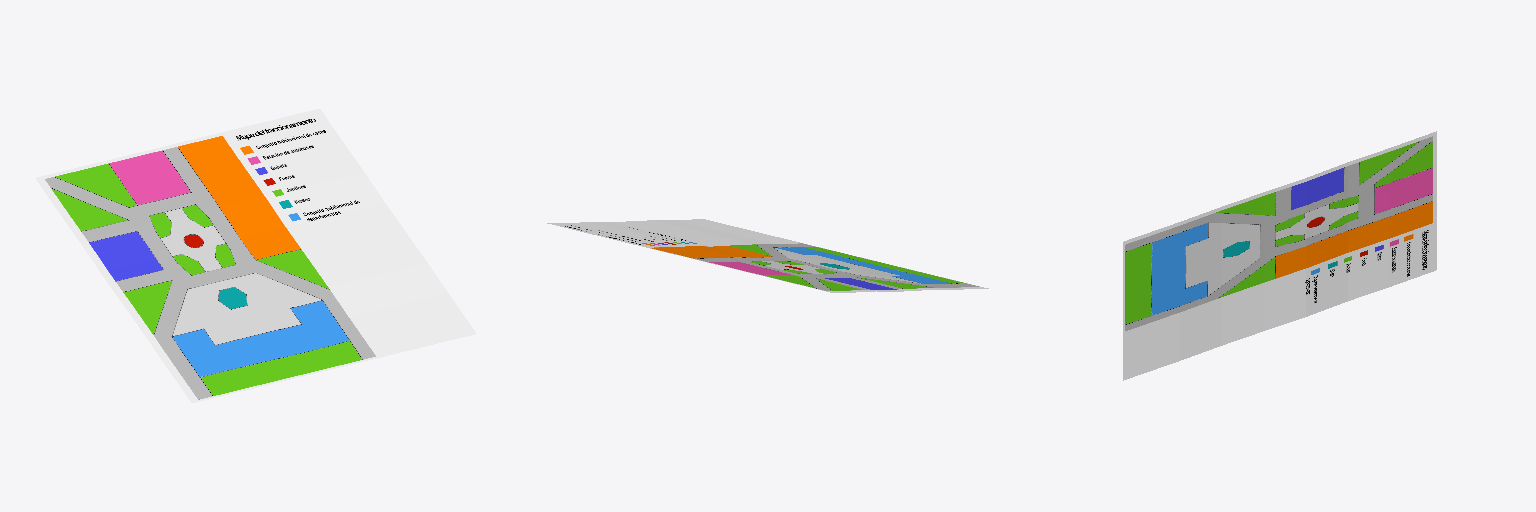
3 views of the same model, side by side, from view 1: azimuth 30°, elevation 25°; view 2: azimuth 150°, elevation 25°; view 3: azimuth 270°, elevation 25° (orthographic).
Parts seen in each view (by area): view 1: Object001; view 2: Object001; view 3: Object001.
Part boxes in pixels (x1,y1,x2,y2): Object001: (35, 109, 476, 402); Object001: (547, 219, 988, 292); Object001: (1123, 131, 1436, 380).
Size of the model in its own units: 16.82 by 6.24 by 16.05.
1 materials, 1 textured.